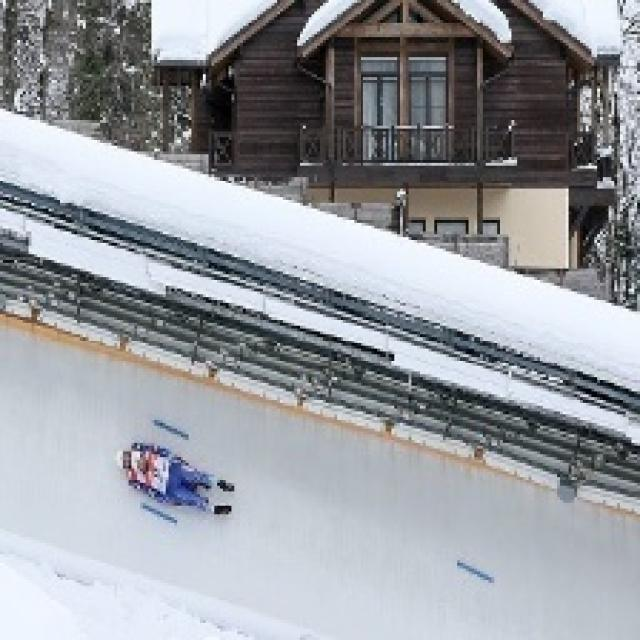luge: (109, 436, 248, 525)
